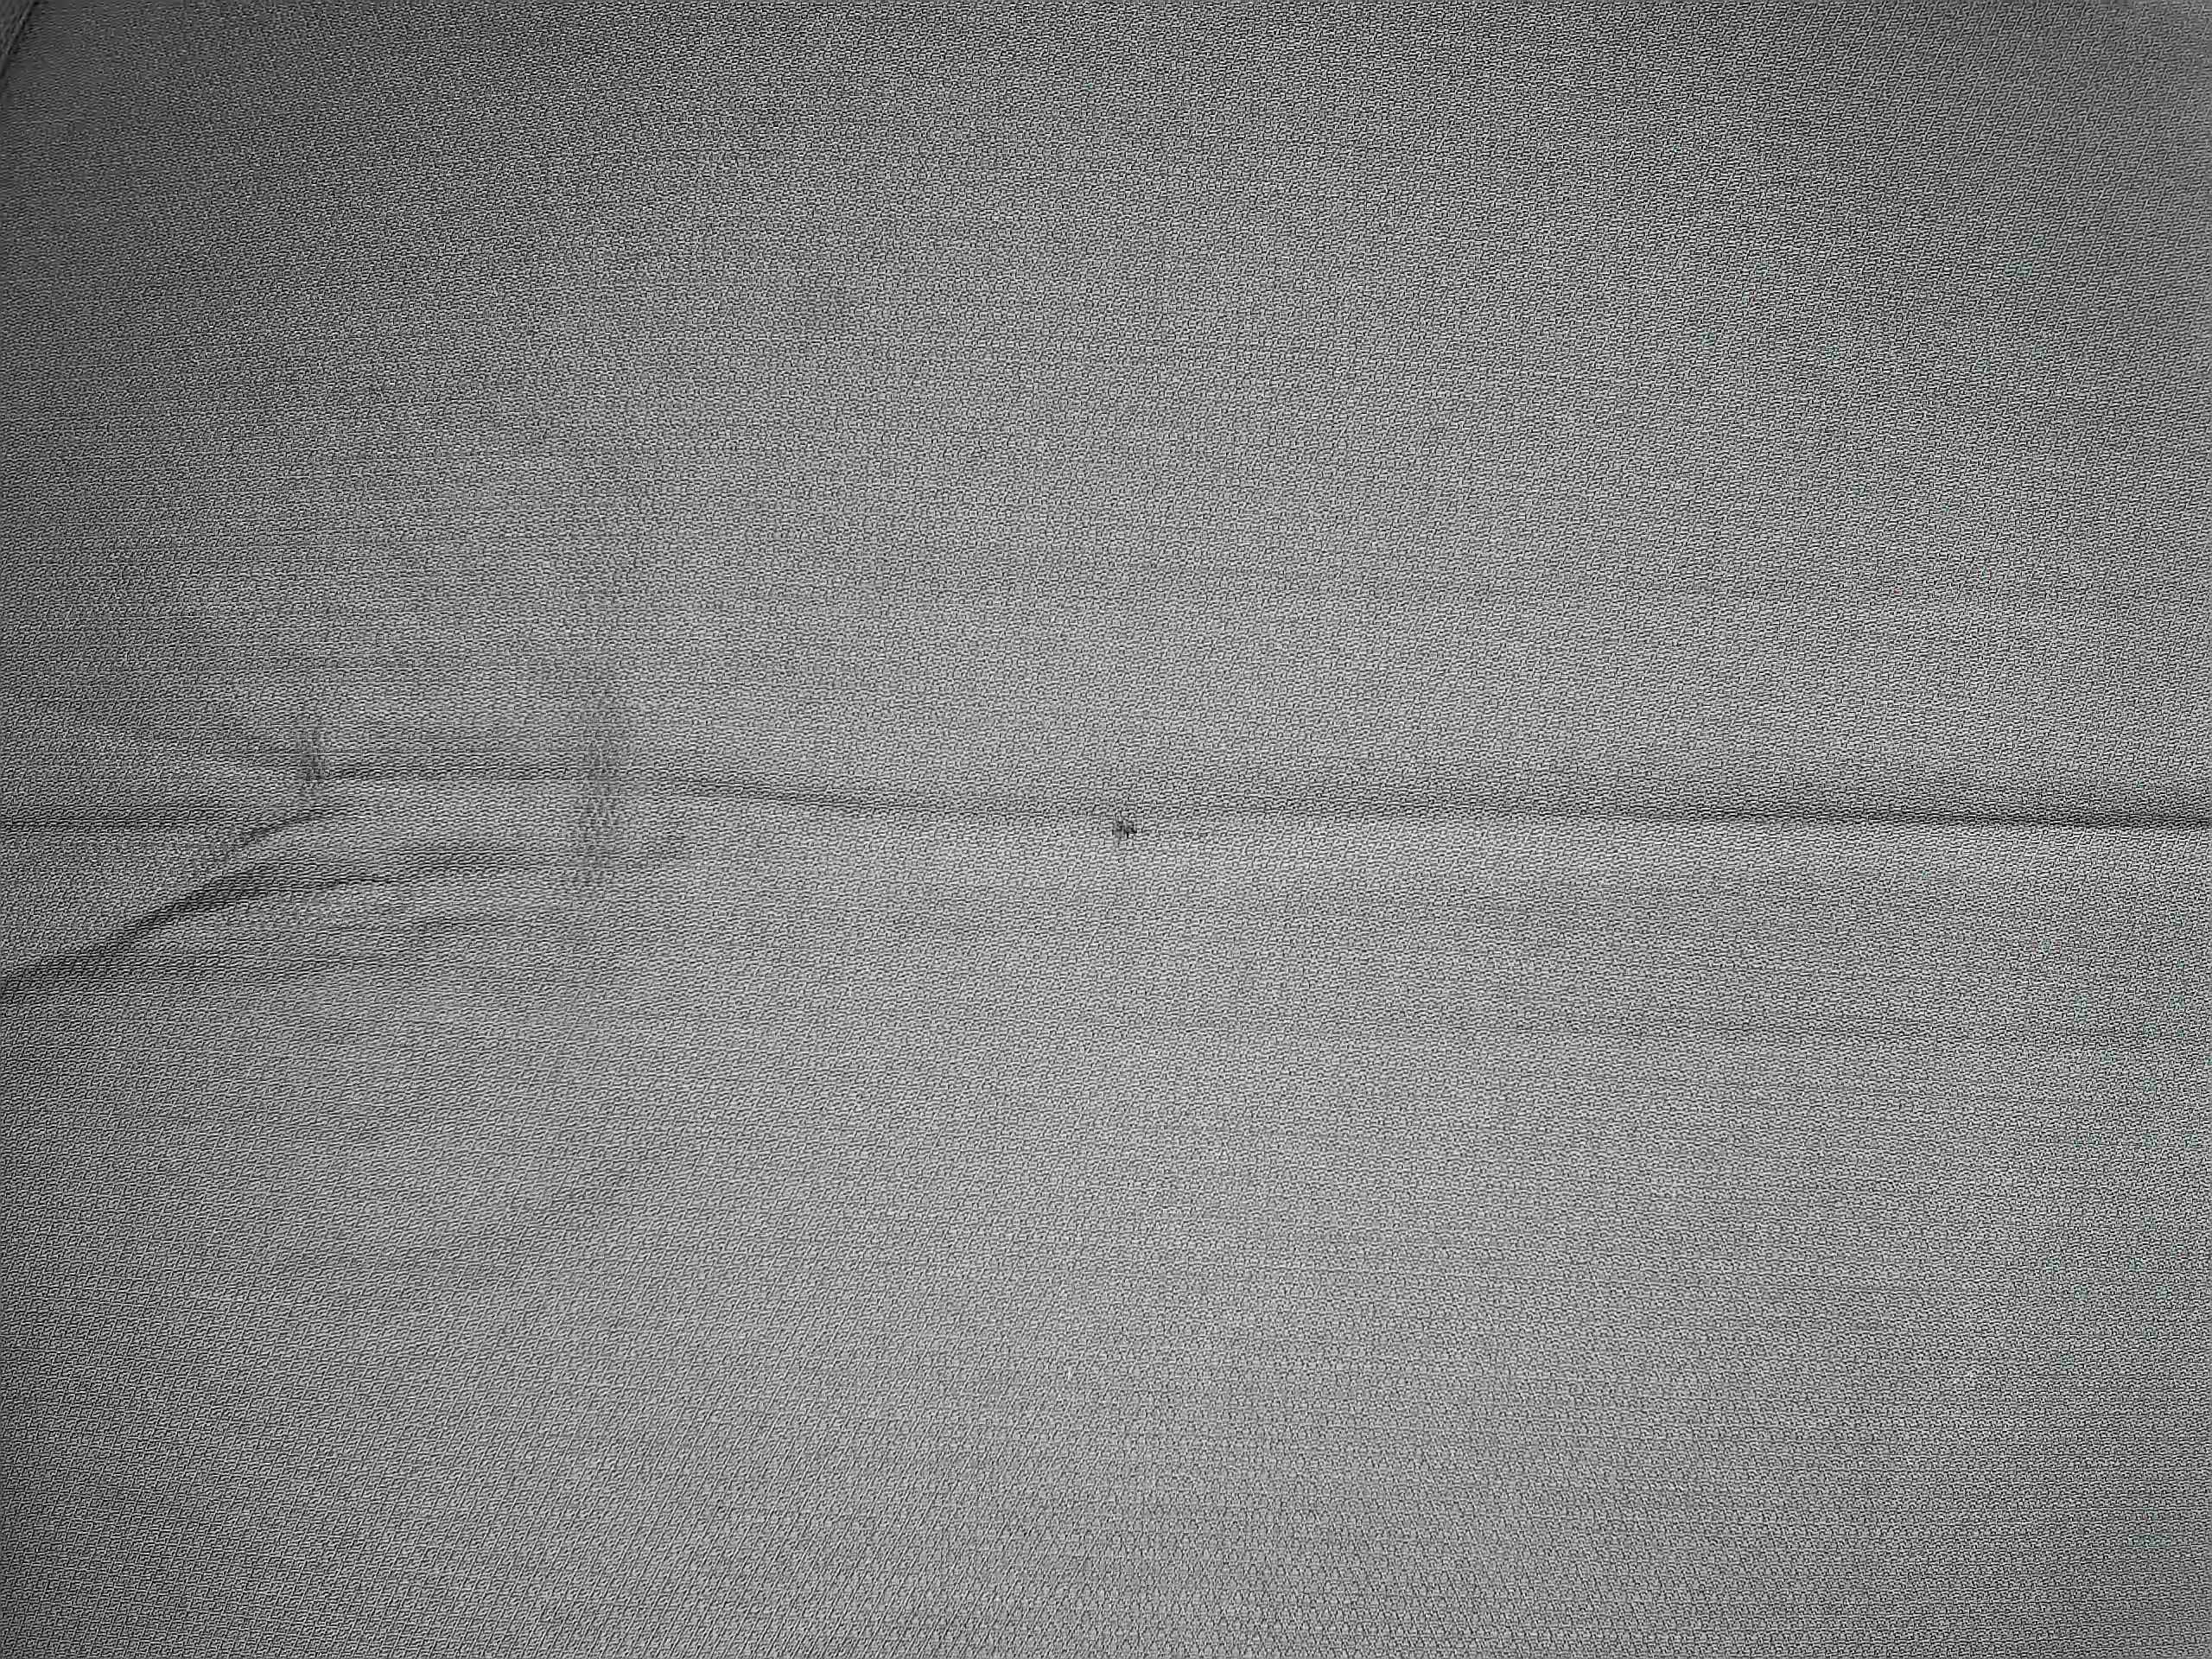rubbing-hole: (1103, 802, 1148, 856)
